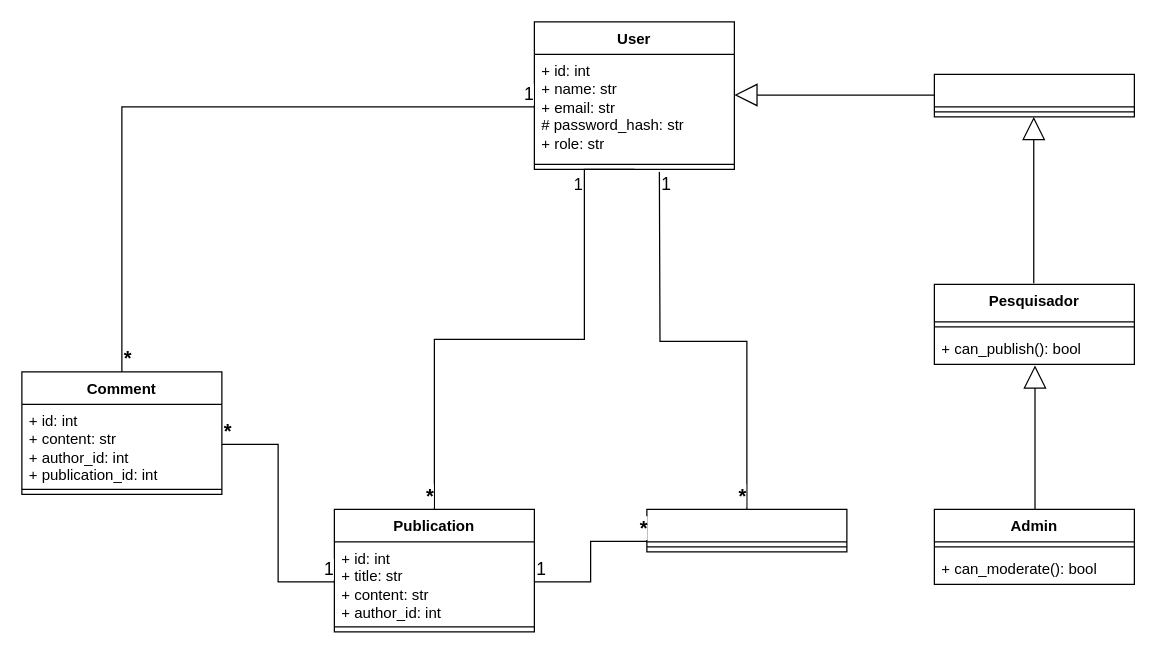
Image size: 1156x654. Some labels were removed from this diagram. The centre of each missing label's shape, as x and y in pixels:
"Leitor" goes at pixel 1033 95.
"Like" goes at pixel 746 530.
